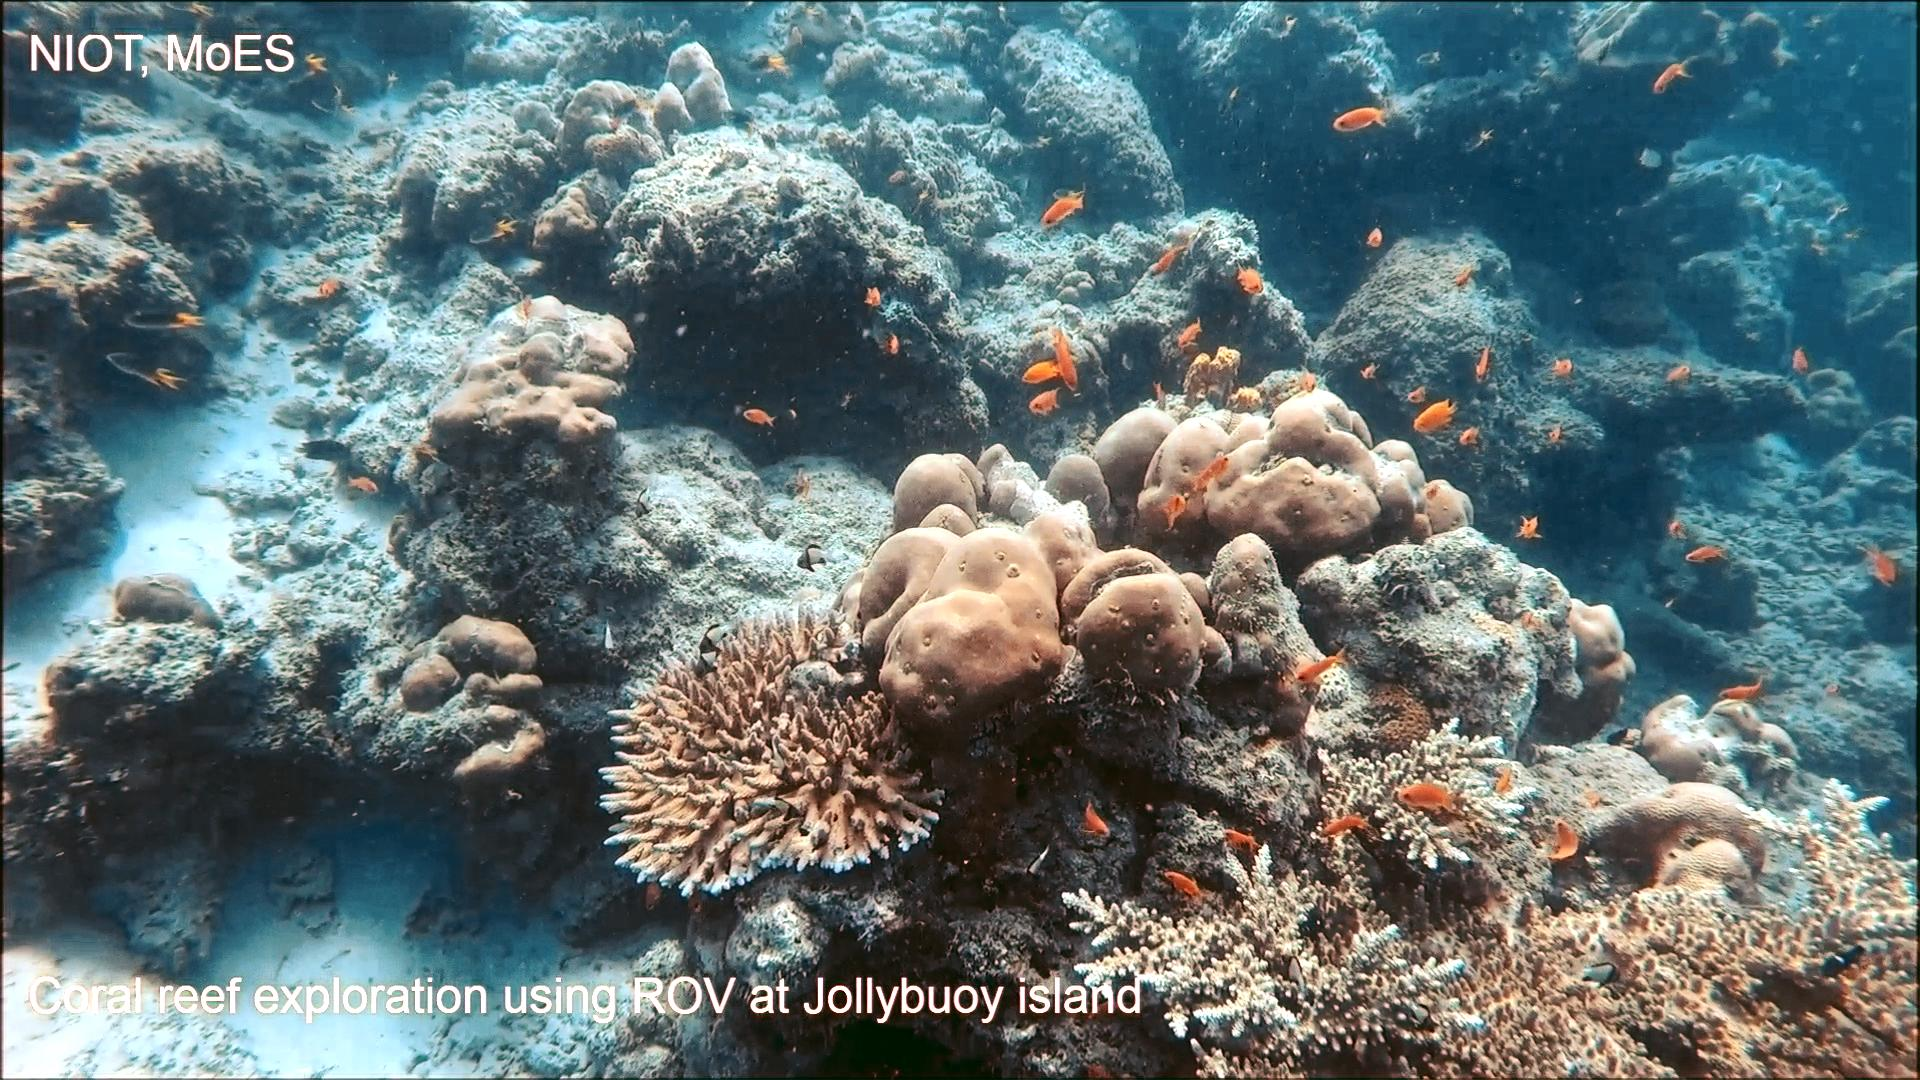Porites-Porites pukoensis: (832, 439, 1211, 733), (1073, 384, 1477, 564)
